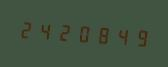eight: (93, 20, 111, 48)
four: (36, 16, 54, 44), (112, 22, 130, 50)
nine: (131, 23, 149, 51)
two: (17, 15, 35, 43), (55, 18, 73, 46)
zero: (74, 19, 92, 47)
